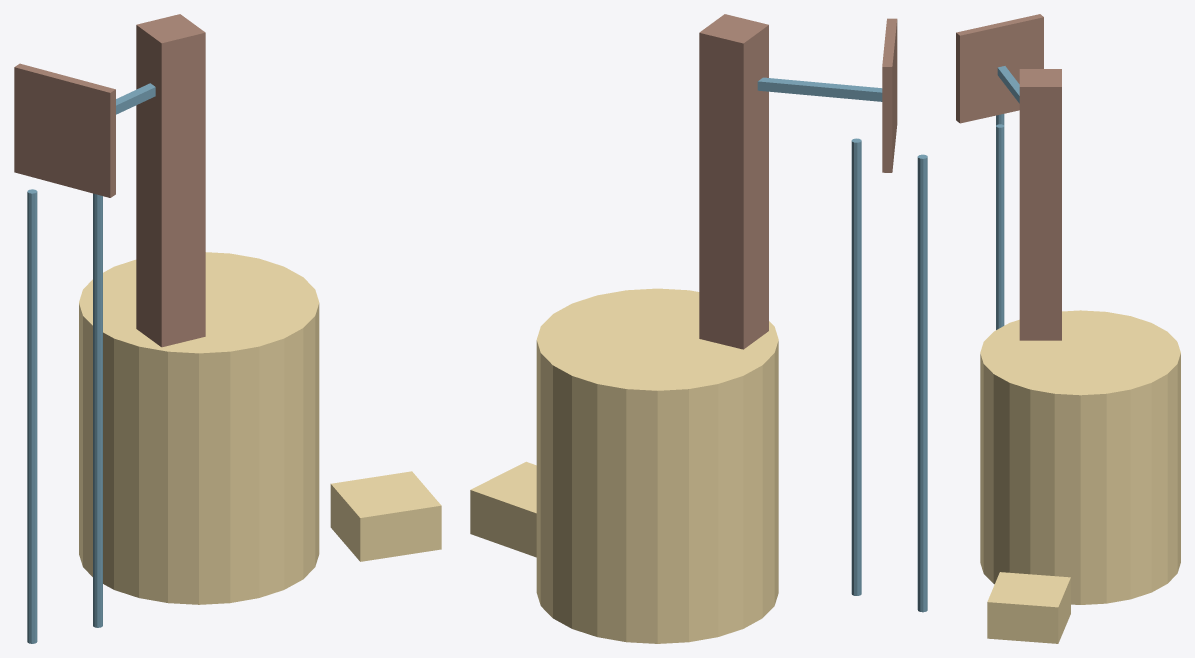
File: folie_tag_053.glb
3 views of the same model, side by side, from view 1: azimuth 30°, elevation 25°; view 2: azimuth 150°, elevation 25°; view 3: azimuth 270°, elevation 25° (orthographic). The views are drawn at different scales.
Parts seen in each view (by area): view 1: folie_tag_053_00_drum, folie_tag_053_core, folie_tag_053_01_panel, folie_tag_053_line, folie_tag_053_02_block; view 2: folie_tag_053_00_drum, folie_tag_053_core, folie_tag_053_line, folie_tag_053_02_block, folie_tag_053_01_panel; view 3: folie_tag_053_00_drum, folie_tag_053_core, folie_tag_053_01_panel, folie_tag_053_02_block, folie_tag_053_line.
Boxes of the visible parts, box(x1,y1,x2,y2) form: folie_tag_053_00_drum: box(79, 252, 319, 604); folie_tag_053_core: box(136, 14, 205, 347); folie_tag_053_01_panel: box(14, 63, 115, 197); folie_tag_053_line: box(27, 83, 155, 643); folie_tag_053_02_block: box(330, 471, 441, 561); folie_tag_053_00_drum: box(536, 288, 778, 643); folie_tag_053_core: box(699, 14, 768, 349); folie_tag_053_line: box(757, 77, 927, 612); folie_tag_053_02_block: box(470, 461, 536, 557); folie_tag_053_01_panel: box(882, 18, 897, 172); folie_tag_053_00_drum: box(980, 310, 1180, 604); folie_tag_053_core: box(1019, 69, 1061, 340); folie_tag_053_01_panel: box(956, 14, 1043, 123); folie_tag_053_02_block: box(987, 572, 1070, 643); folie_tag_053_line: box(996, 66, 1019, 329).
Size of the model in its own units: 10.46 by 13.26 by 5.83.
